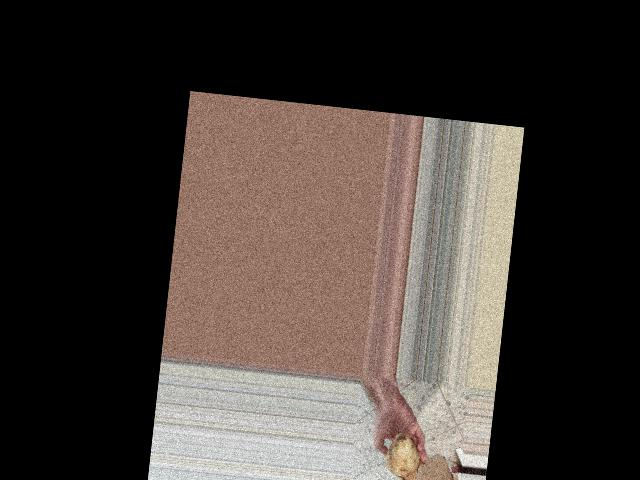onion: (381, 428, 427, 480)
